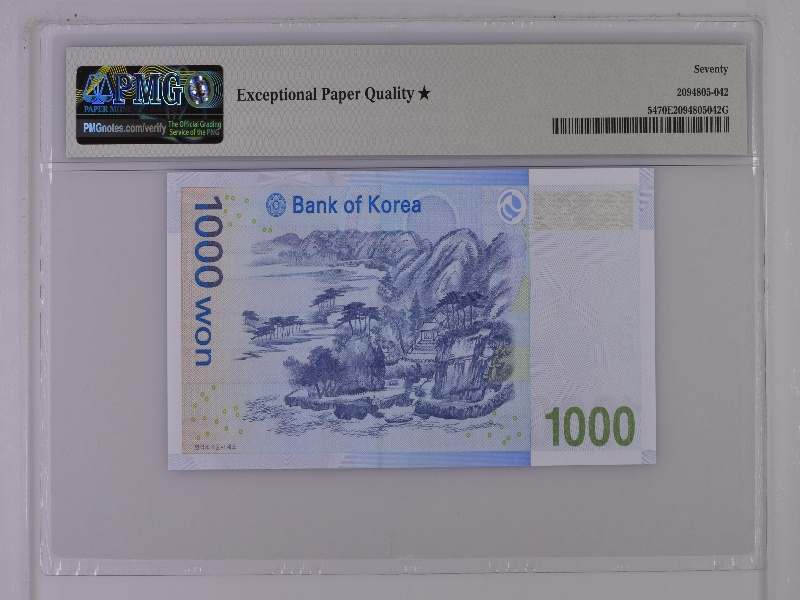papernote: (164, 167, 659, 468)
